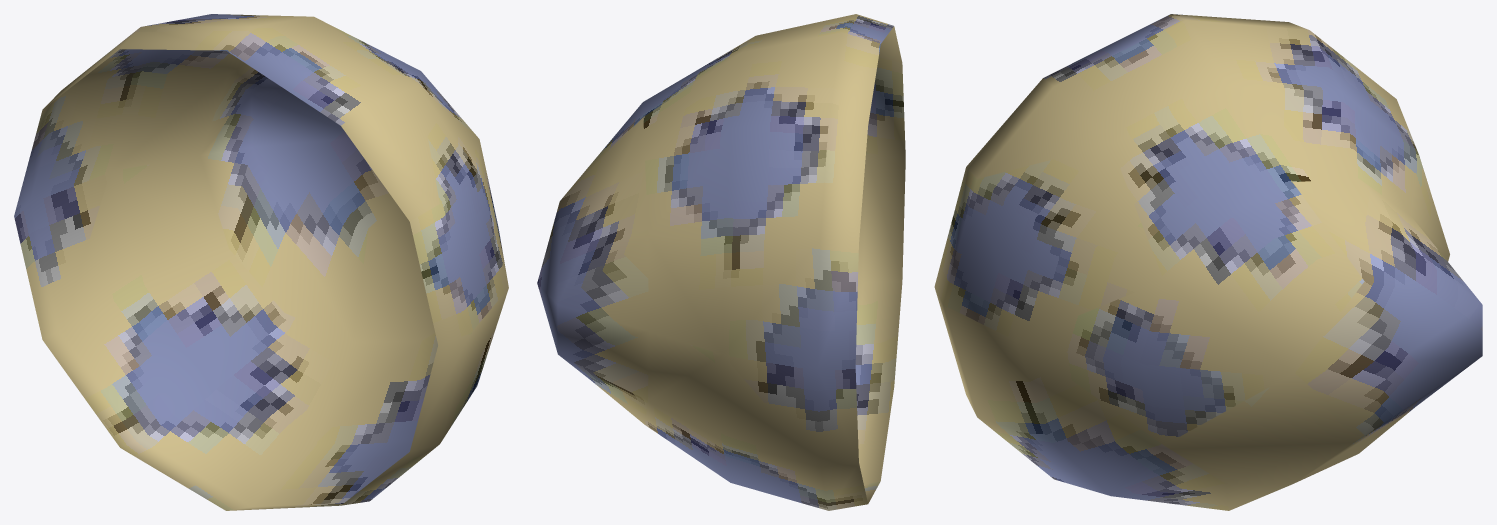
File: cap_patched.dae
3 renders of one model, left to right at view 1: azimuth 30°, elevation 25°; view 2: azimuth 150°, elevation 25°; view 3: azimuth 270°, elevation 25°, orthographic. The views are drawn at different scales.
Parts seen in each view (by area): view 1: cap_patched; view 2: cap_patched; view 3: cap_patched.
Part boxes in pixels (x1,y1,x2,y2): cap_patched: (14,14,508,510); cap_patched: (537,14,905,510); cap_patched: (934,14,1482,510).
Bounding box in the file's own units: 17.49 × 22.04 × 23.02.
1 material, 1 textured.
